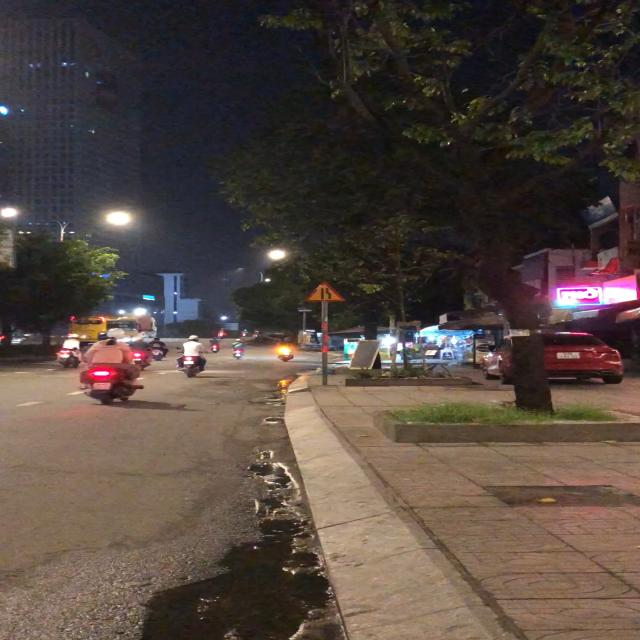Bien bao duong bi thu hep: (300, 279, 348, 303)
